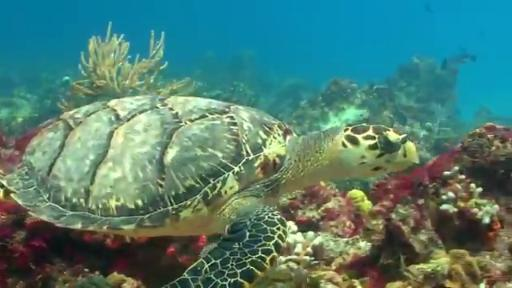Fish: (1, 96, 417, 287)
